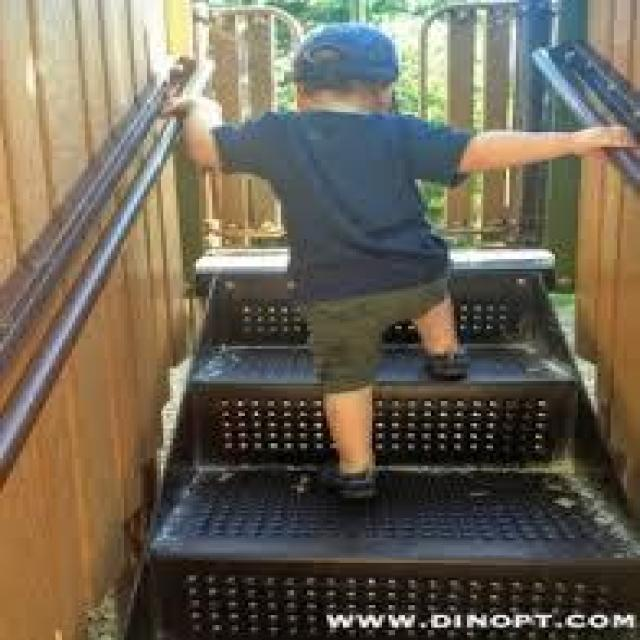child: (150, 22, 634, 503)
